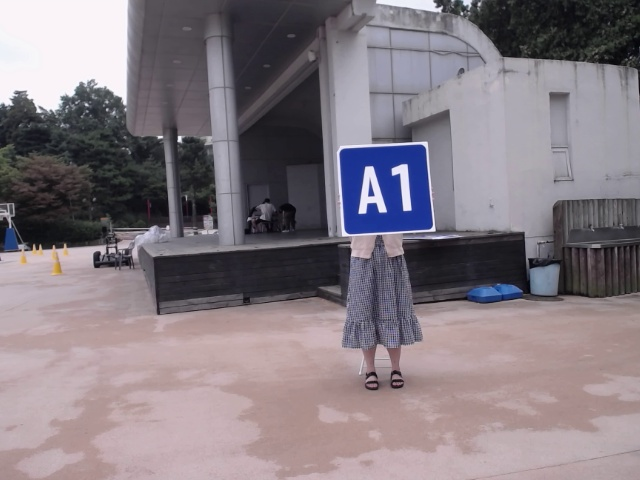delivery_a1: (338, 145, 435, 235)
